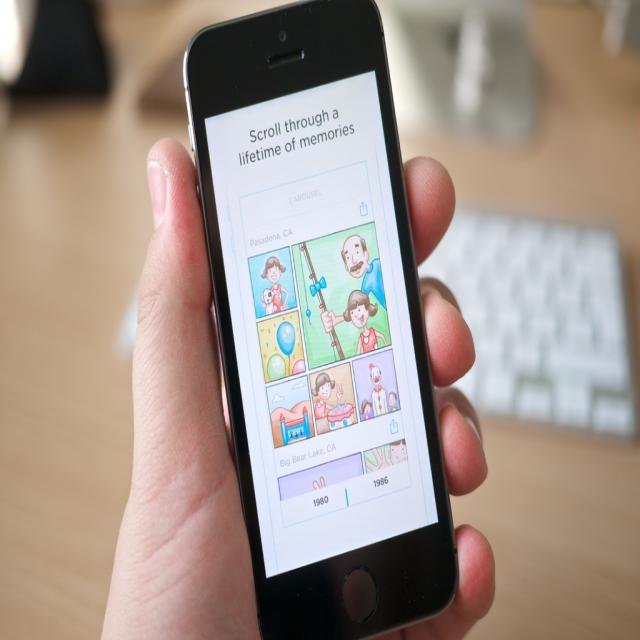Mobile-phone: (180, 0, 459, 636)
